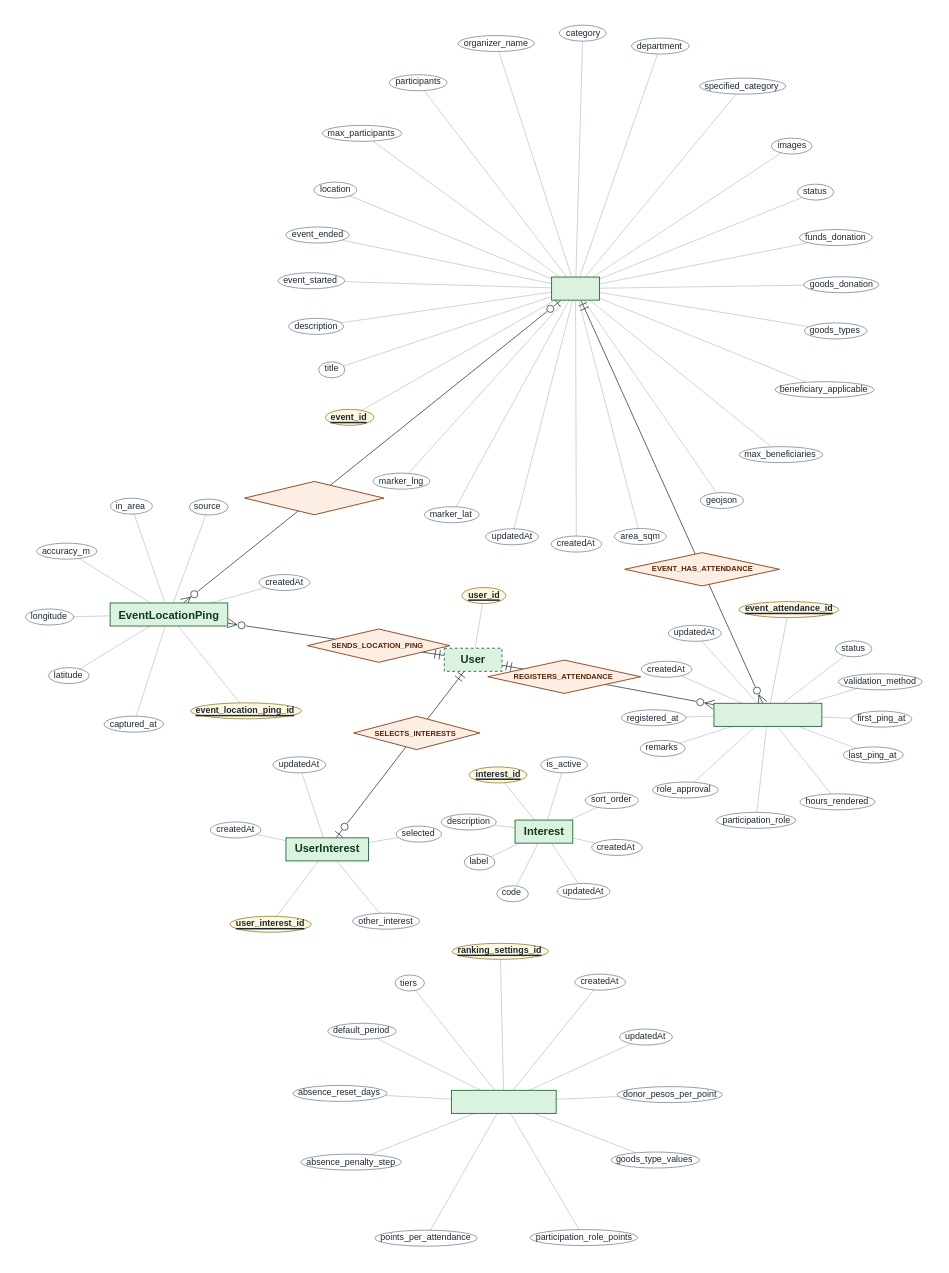
Image size: 949x1273. Some labels were removed from this diagram. Here are the shapes that lost their labels. From the top down, the centre of each, then its label:
pixel 574 288: Event
pixel 313 497: EVENT_RECEIVES_PING
pixel 767 714: EventAttendance
pixel 503 1101: RankingSettings
